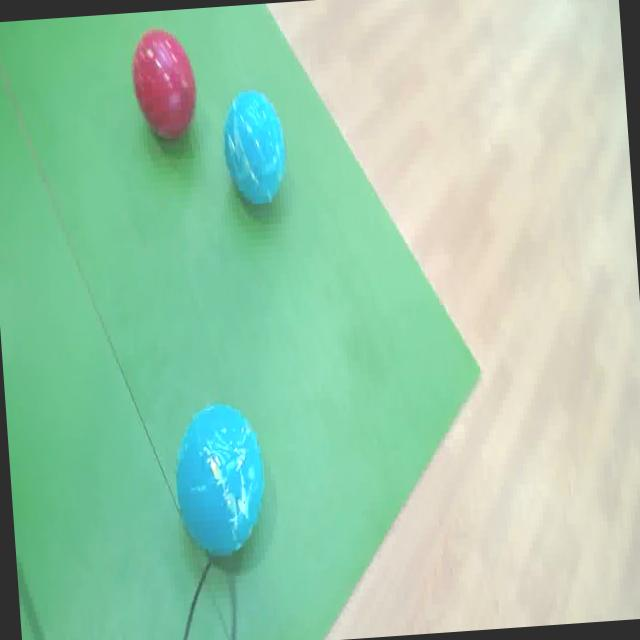blue_ball: (168, 394, 272, 564), (218, 82, 290, 209)
red_ball: (129, 23, 200, 143)
